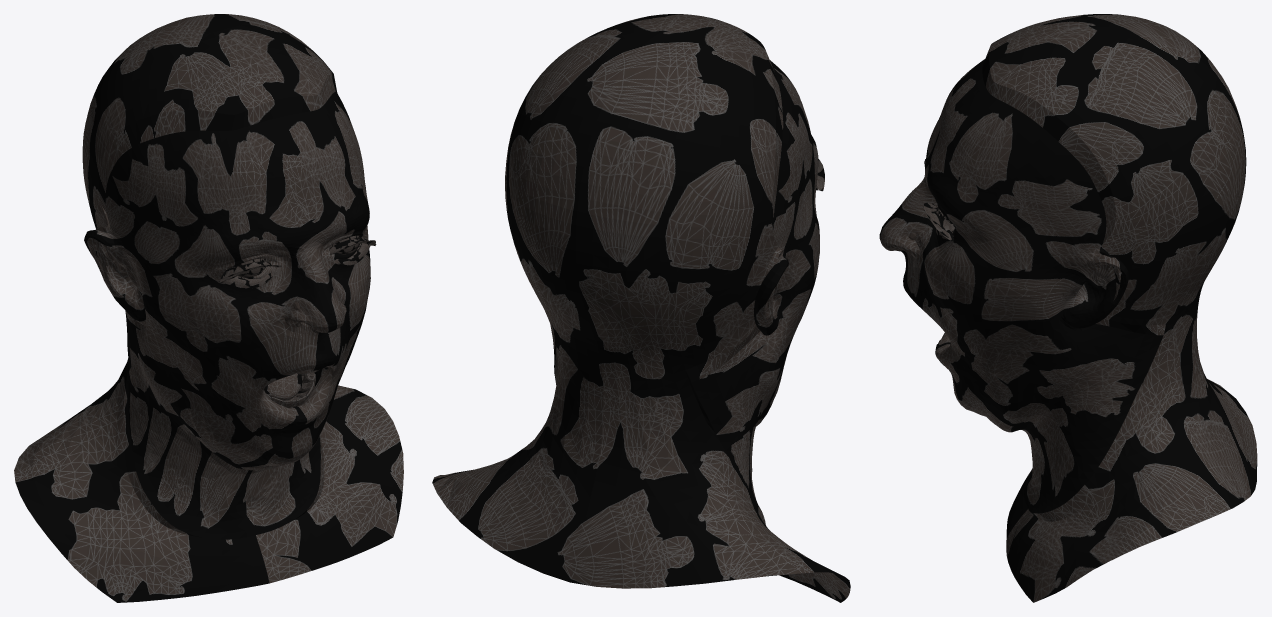
The model's file is ict_mediapipe_M_Teeth_textured.obj.
3 renders of one model, left to right at view 1: azimuth 30°, elevation 25°; view 2: azimuth 150°, elevation 25°; view 3: azimuth 270°, elevation 25°, orthographic. The views are drawn at different scales.
Size of the model in its own units: 1.02 by 1.38 by 0.9253.
Materials: 1 (1 with a texture image).
